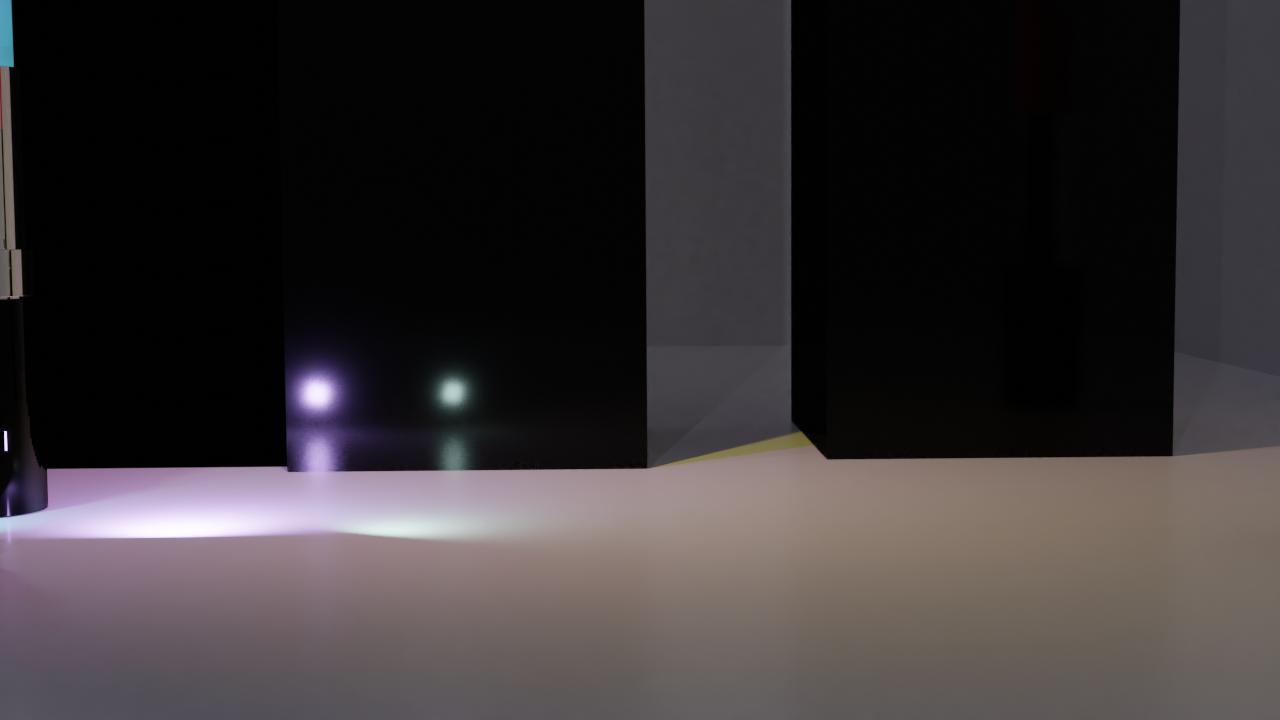CLASSIFIER_NAME: (0, 0, 51, 520)
